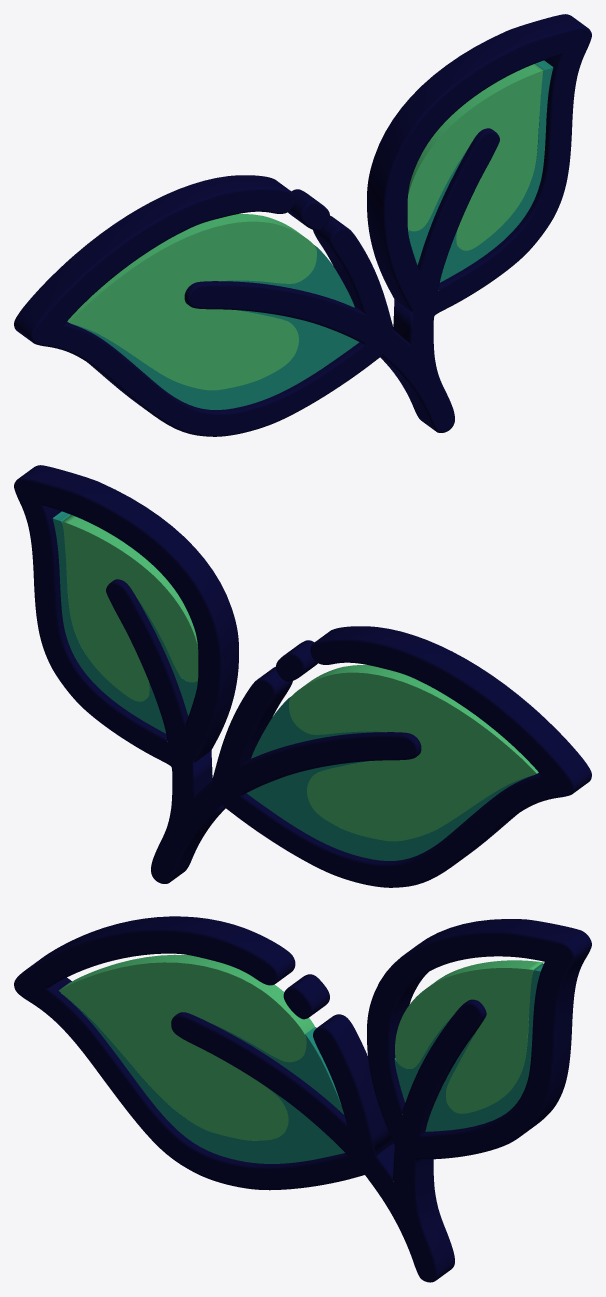
The model's file is leaf.gltf.
3 renders of one model, top to bottom at view 1: azimuth 30°, elevation 25°; view 2: azimuth 150°, elevation 25°; view 3: azimuth 330°, elevation 25°, orthographic.
Parts seen in each view (by area): view 1: path263, path271, path267; view 2: path263, path271, path267; view 3: path263, path271, path267.
Boxes of the visible parts, x1,y1,x2,y2 form: path263: [14, 14, 591, 436]; path271: [67, 64, 543, 390]; path267: [71, 60, 553, 409]; path263: [14, 465, 591, 887]; path271: [62, 515, 538, 841]; path267: [52, 511, 534, 860]; path263: [14, 916, 591, 1282]; path271: [59, 954, 543, 1140]; path267: [61, 964, 543, 1163].
Bounding box in the file's own units: 10.18 × 6.47 × 0.5742.
